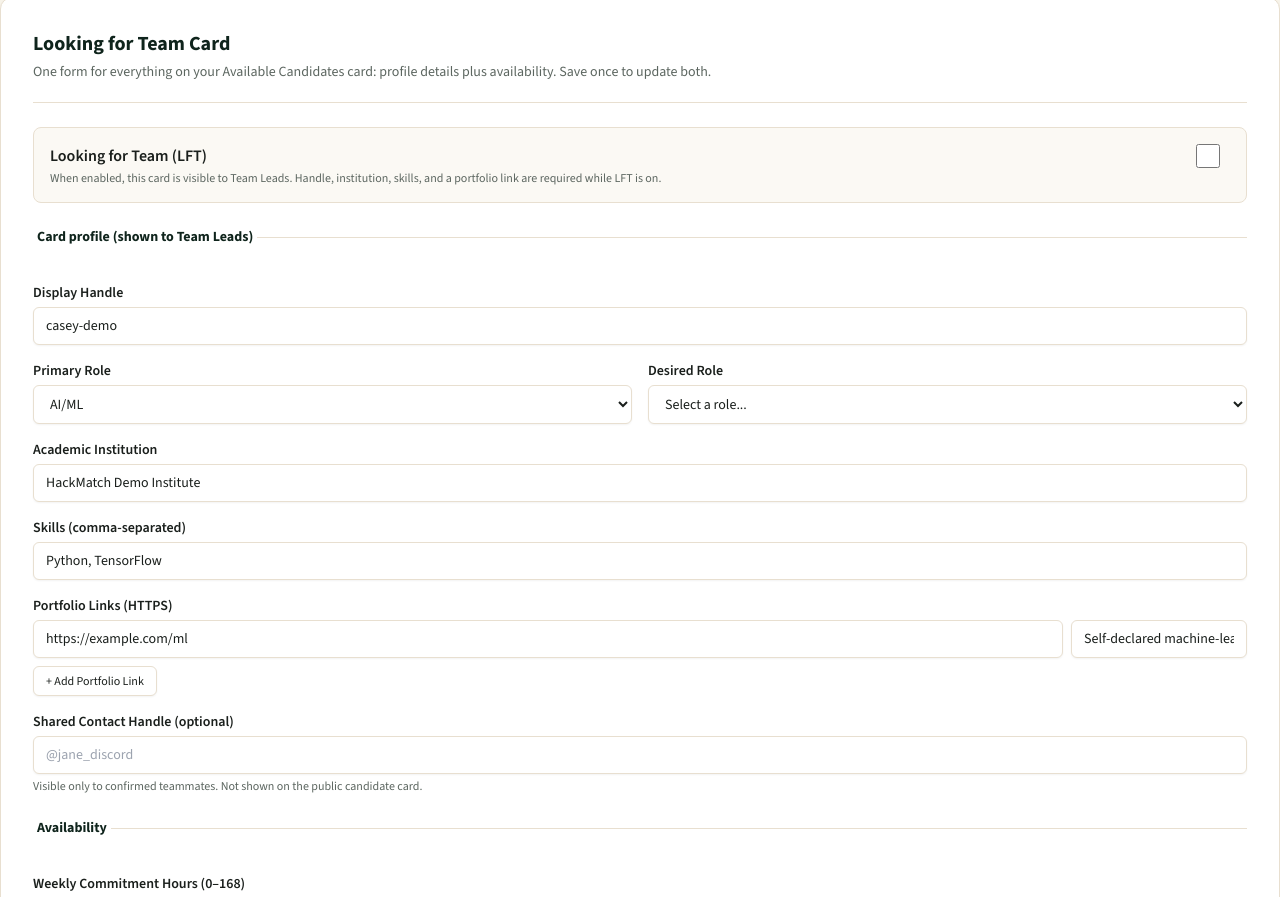
Test case: AvailabilityPreferencesForm (combined Looking for Team card) › shows availability API field errors after a failed enable
The width and height of the screenshot is (1280, 897).
Expected: the field showing "casey-demo" is shown, [33,307,1247,345]
Click the switch labelled "Looking for Team (LFT)": [1208, 156] box [1186,144,1230,168]
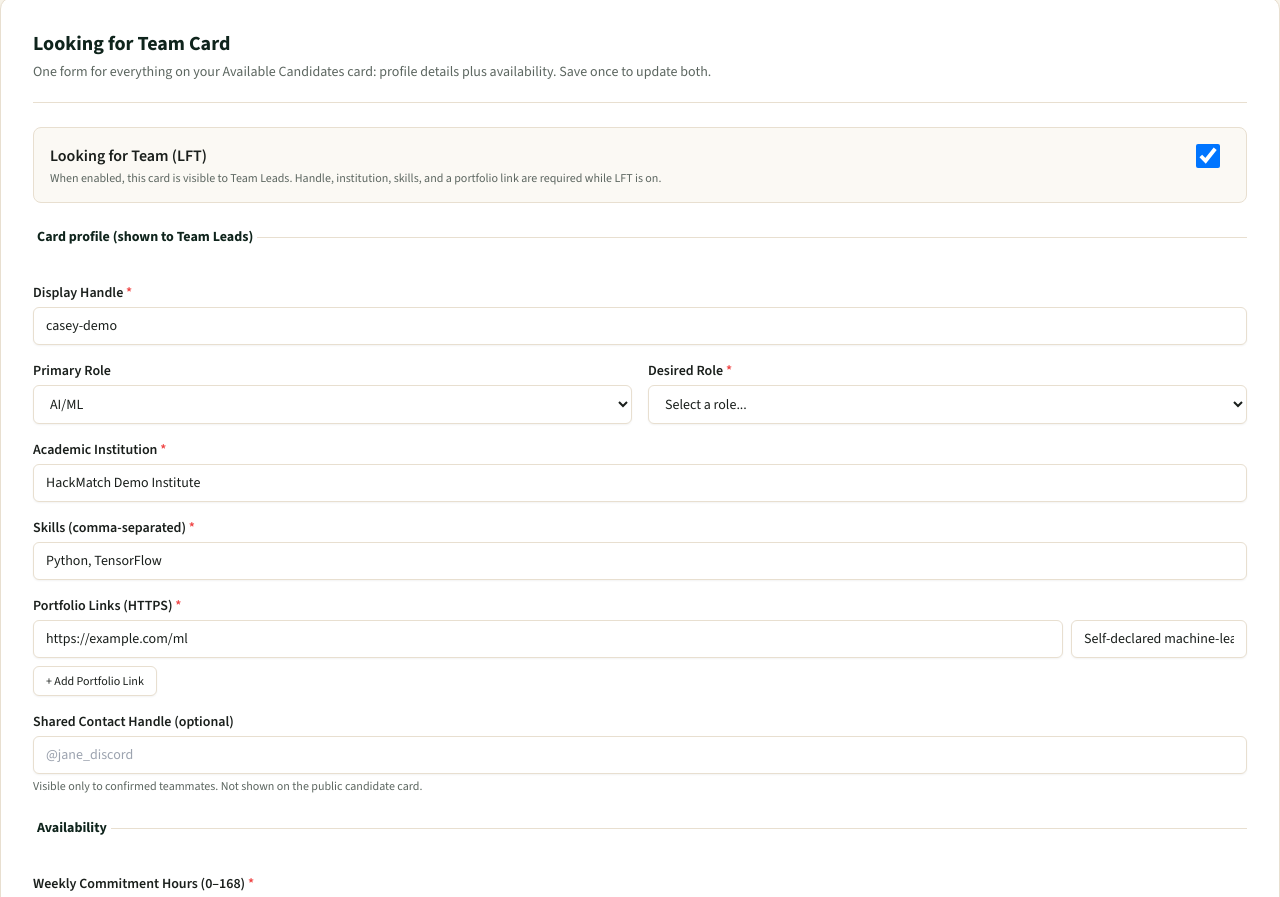
Select "AI/ML" in the dropdown labelled "Desired Role *": [948, 404] box [648,385,1247,424]
(page scrolled)
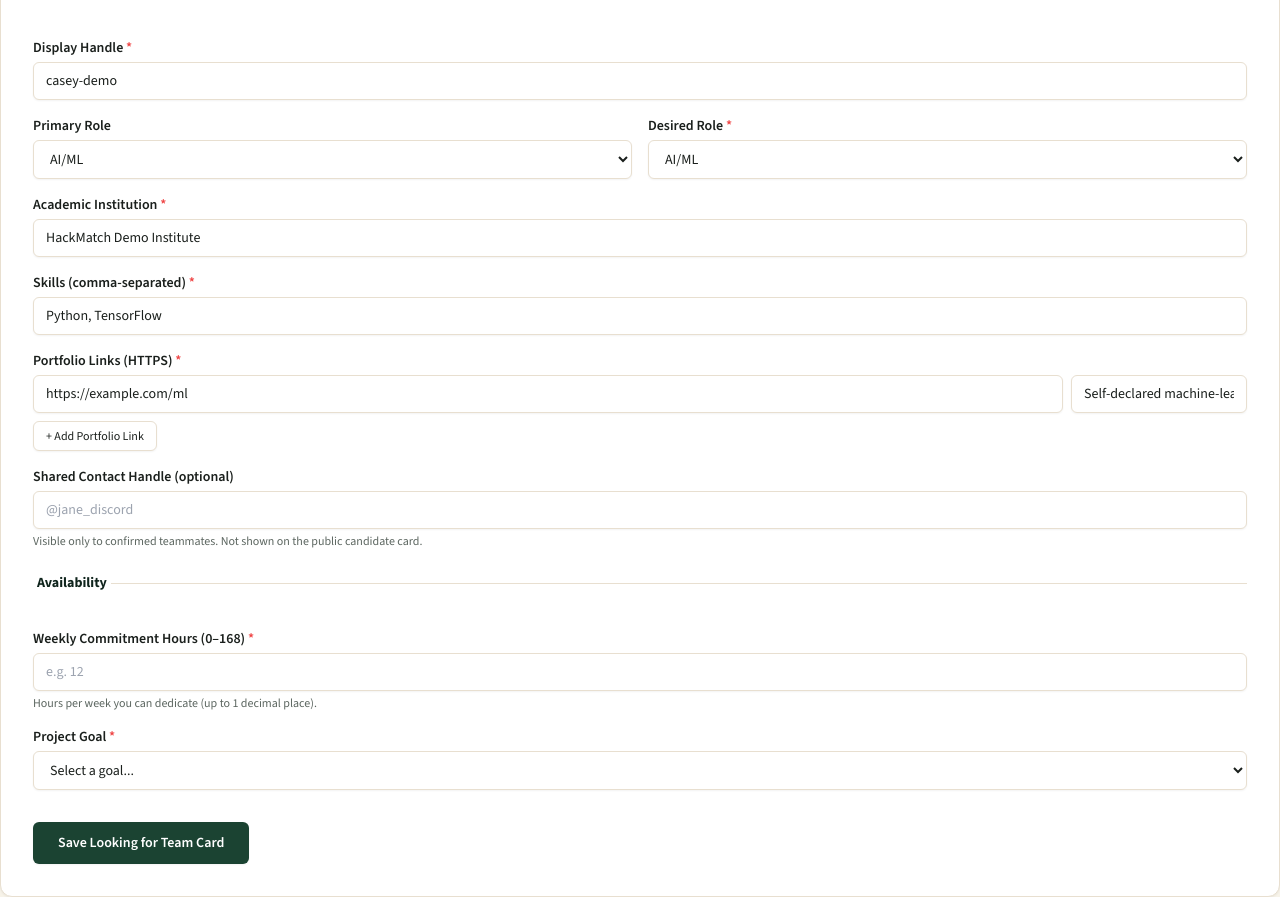
In the number field labelled "Weekly Commitment Hours (0–168) *": [640, 672] box [33,653,1247,691], type "12"
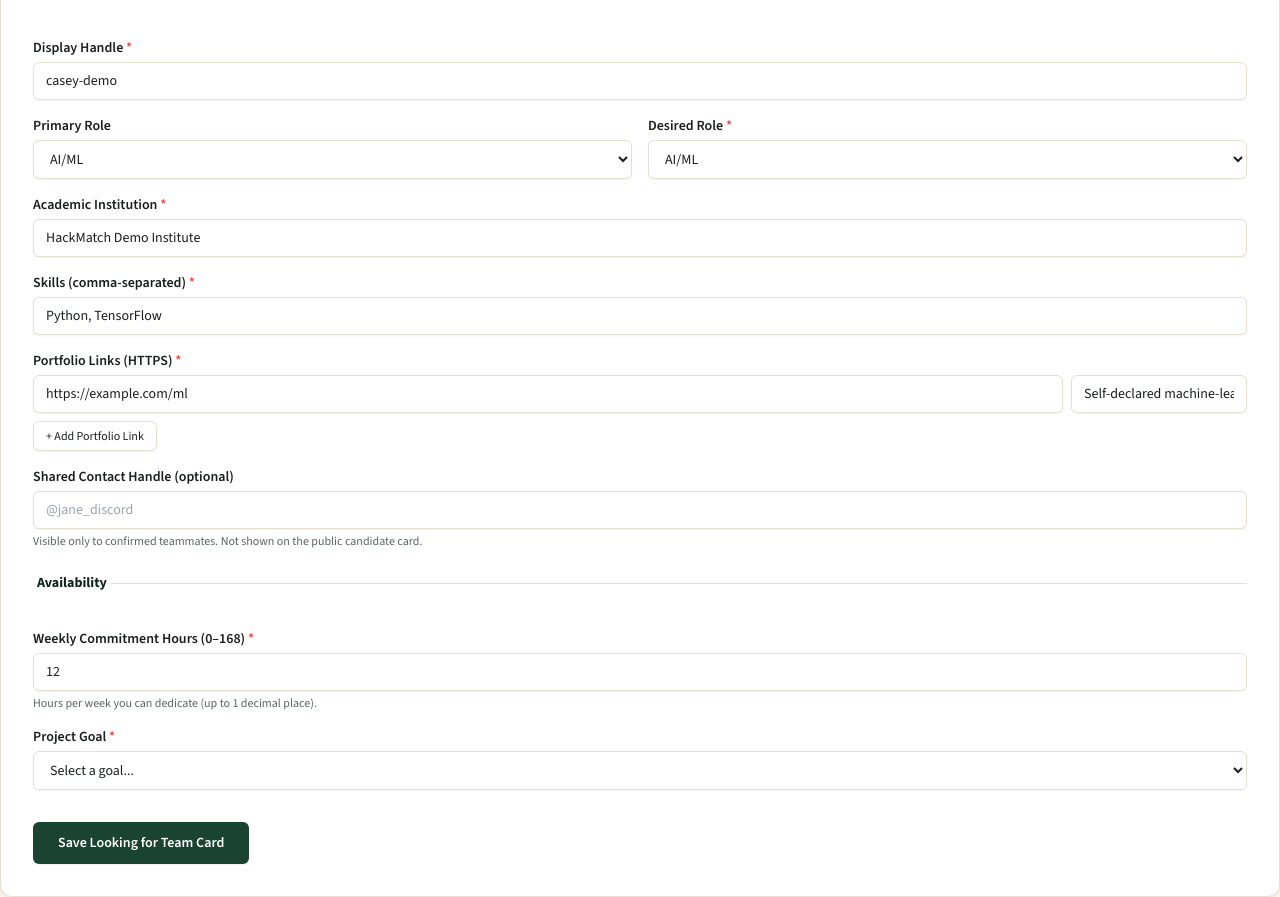
Select "Learning" in the dropdown labelled "Project Goal *": [640, 770] box [33,751,1247,790]
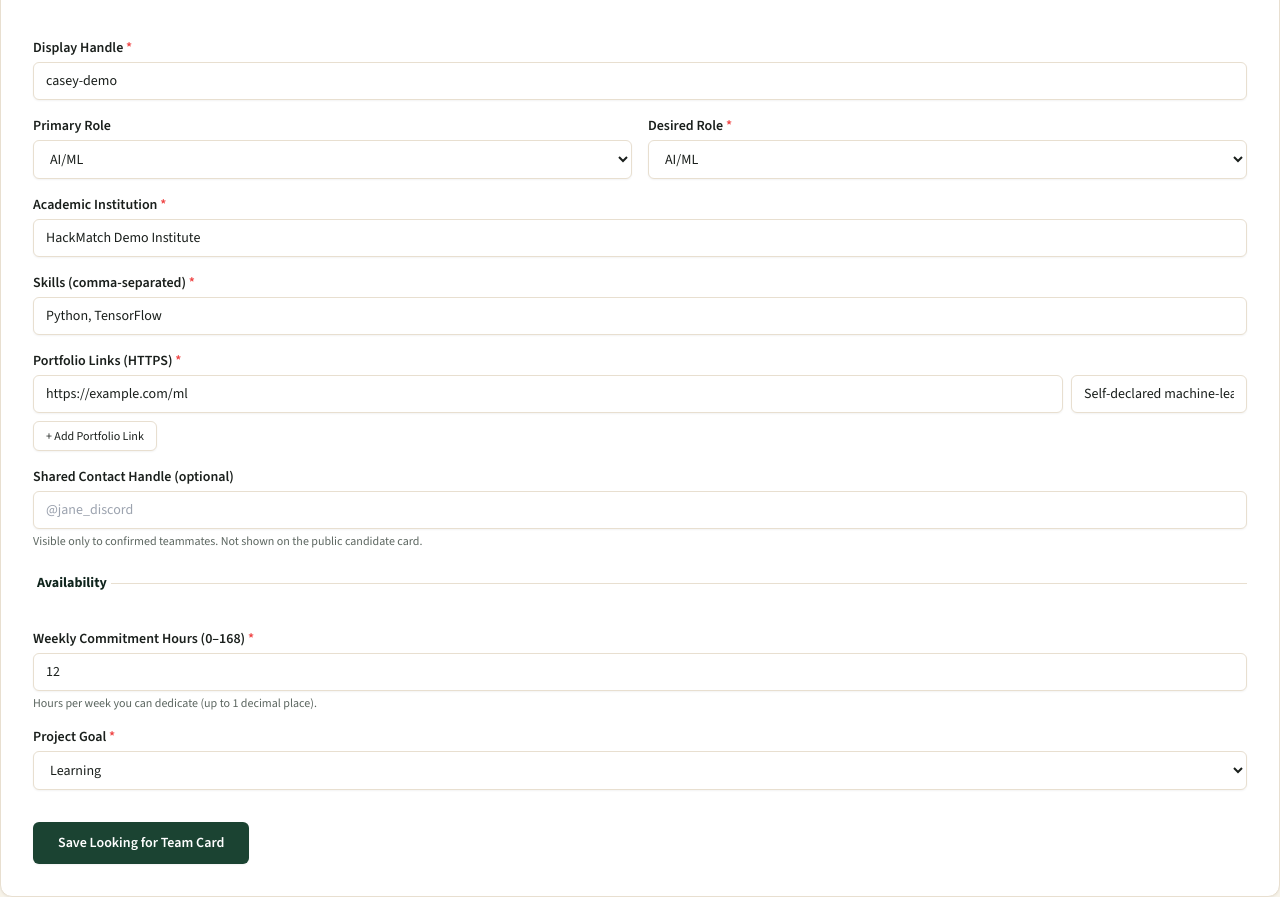
Click the button "Save Looking for Team Card": [141, 843] box [33,822,249,864]
(page scrolled)
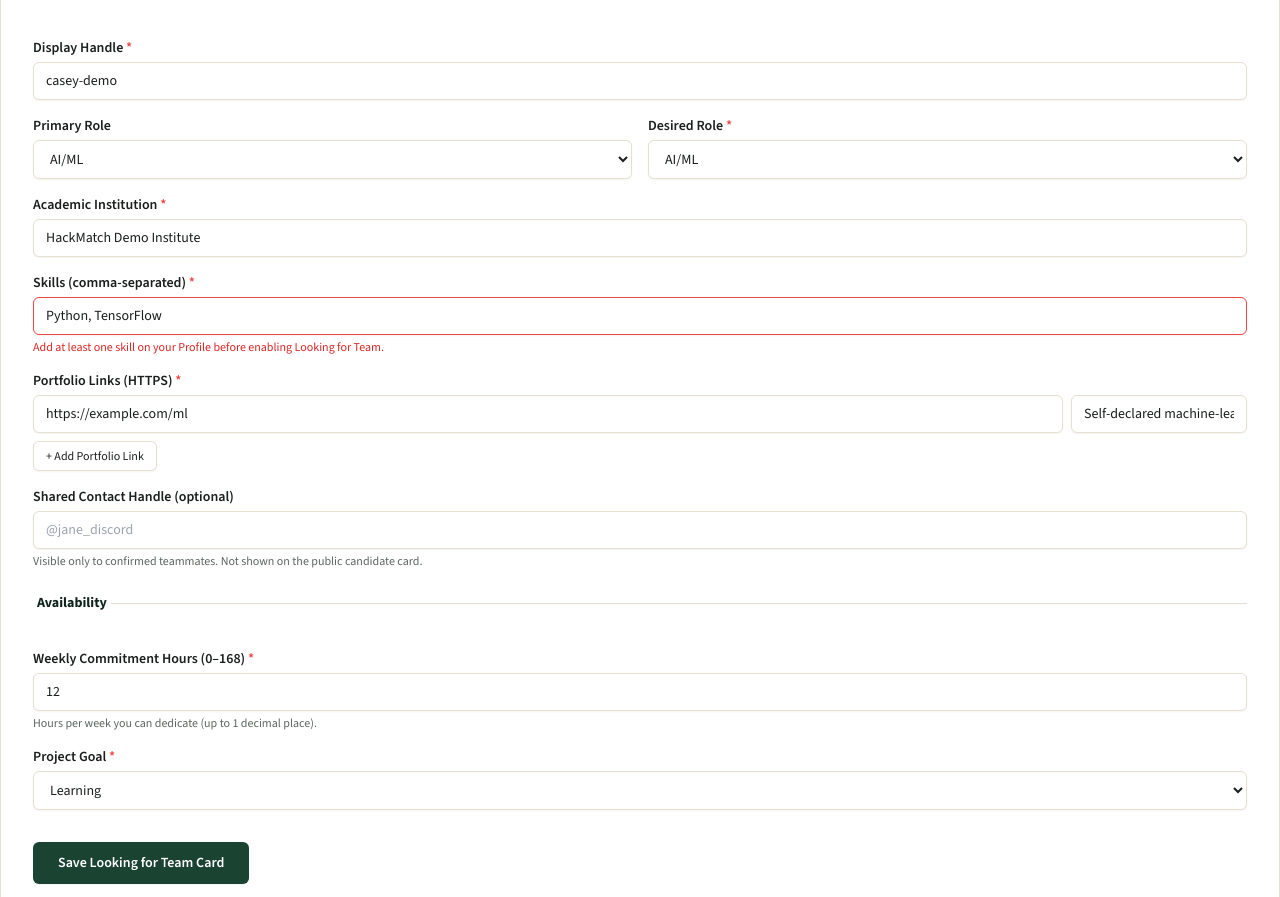
Now the text "Add at least one skill on your Profile before enabling Looking for Team." is shown, box [33,339,384,355]
